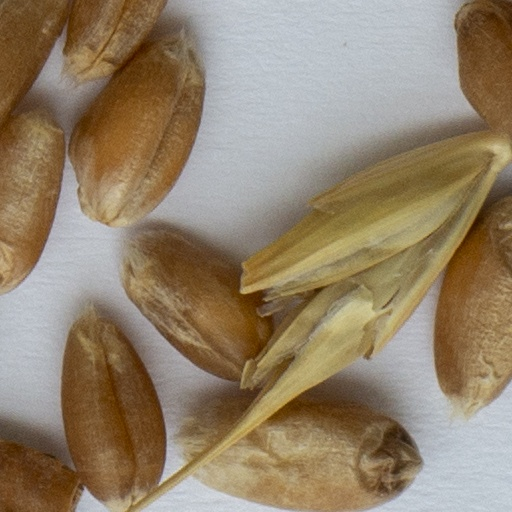Peel-poly: (124, 133, 511, 511), (0, 439, 85, 511)
Wheat-grain-poly: (453, 0, 511, 140)
